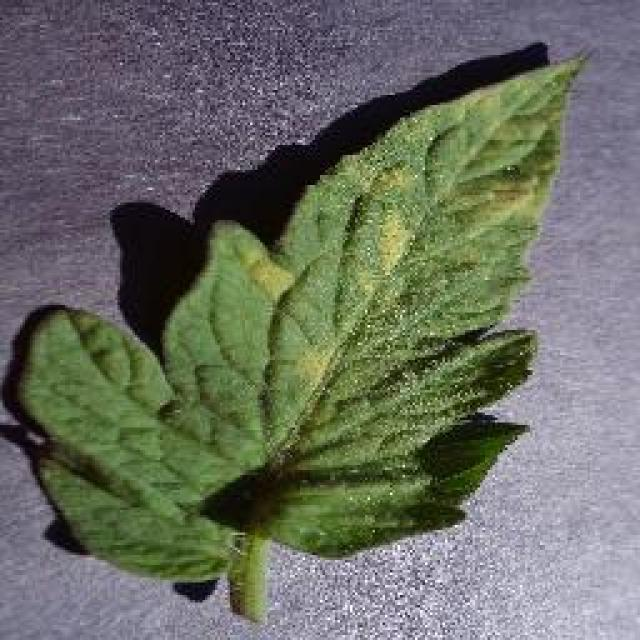Tomato mold leaf: (20, 55, 592, 590)
